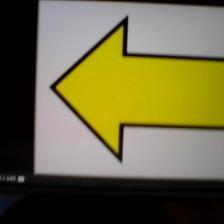left: (51, 16, 220, 166)
